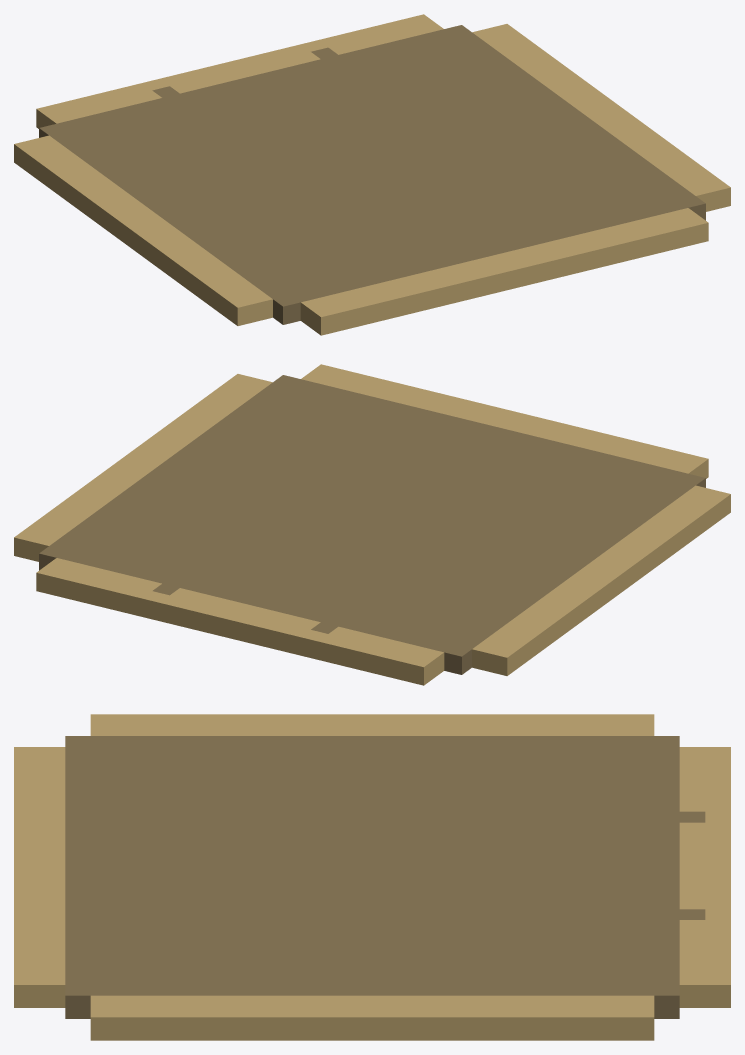
Rendered from TallBuilding02-14.obj.
The picture shows the model from 3 angles, top to bottom: view 1: azimuth 30°, elevation 25°; view 2: azimuth 150°, elevation 25°; view 3: azimuth 270°, elevation 25°; orthographic projection. The views are drawn at different scales.
Size of the model in its own units: 2.8 by 0.1 by 2.8.
1 material, 1 textured.
